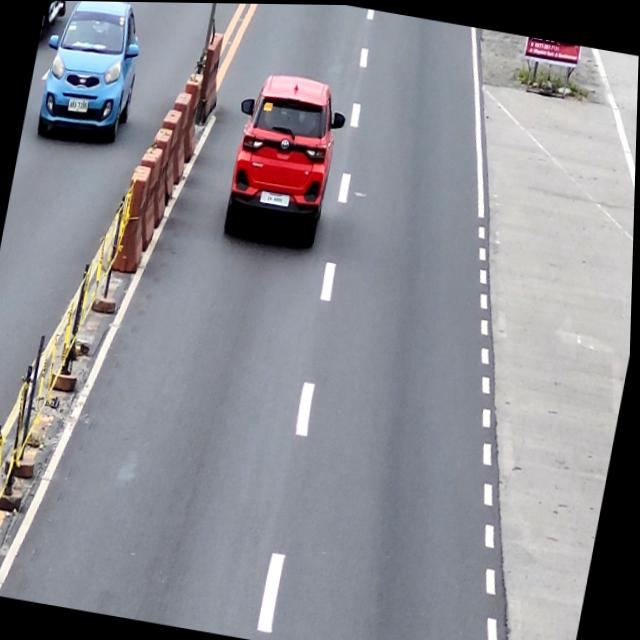Car: (218, 68, 353, 248)
License-Plate: (260, 187, 294, 208)
